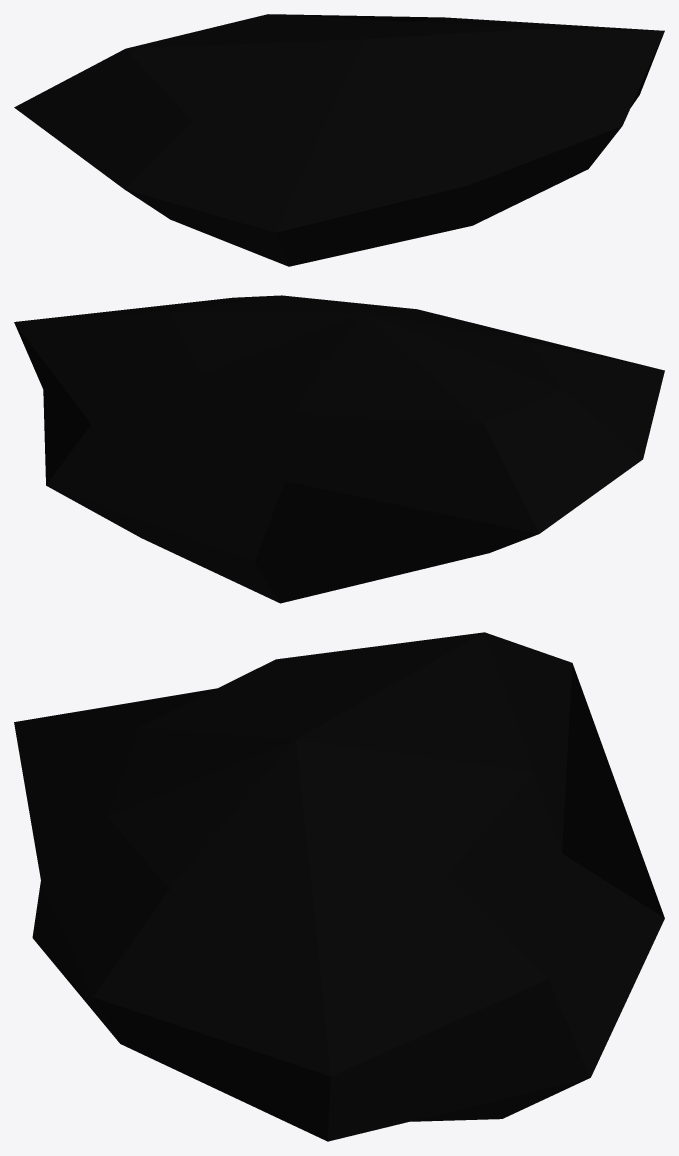
File: SM_rock_flat.fbx
The picture shows the model from 3 angles, top to bottom: view 1: azimuth 30°, elevation 25°; view 2: azimuth 150°, elevation 25°; view 3: azimuth 270°, elevation 25°; orthographic projection. The views are drawn at different scales.
Visible parts, largest first — view 1: rock_flat; view 2: rock_flat; view 3: rock_flat.
Part boxes in pixels (x1,y1,x2,y2): rock_flat: (14,14,664,266); rock_flat: (14,295,664,603); rock_flat: (14,632,664,1141).
Bounding box in the file's own units: 1.9 × 0.6221 × 1.27.
